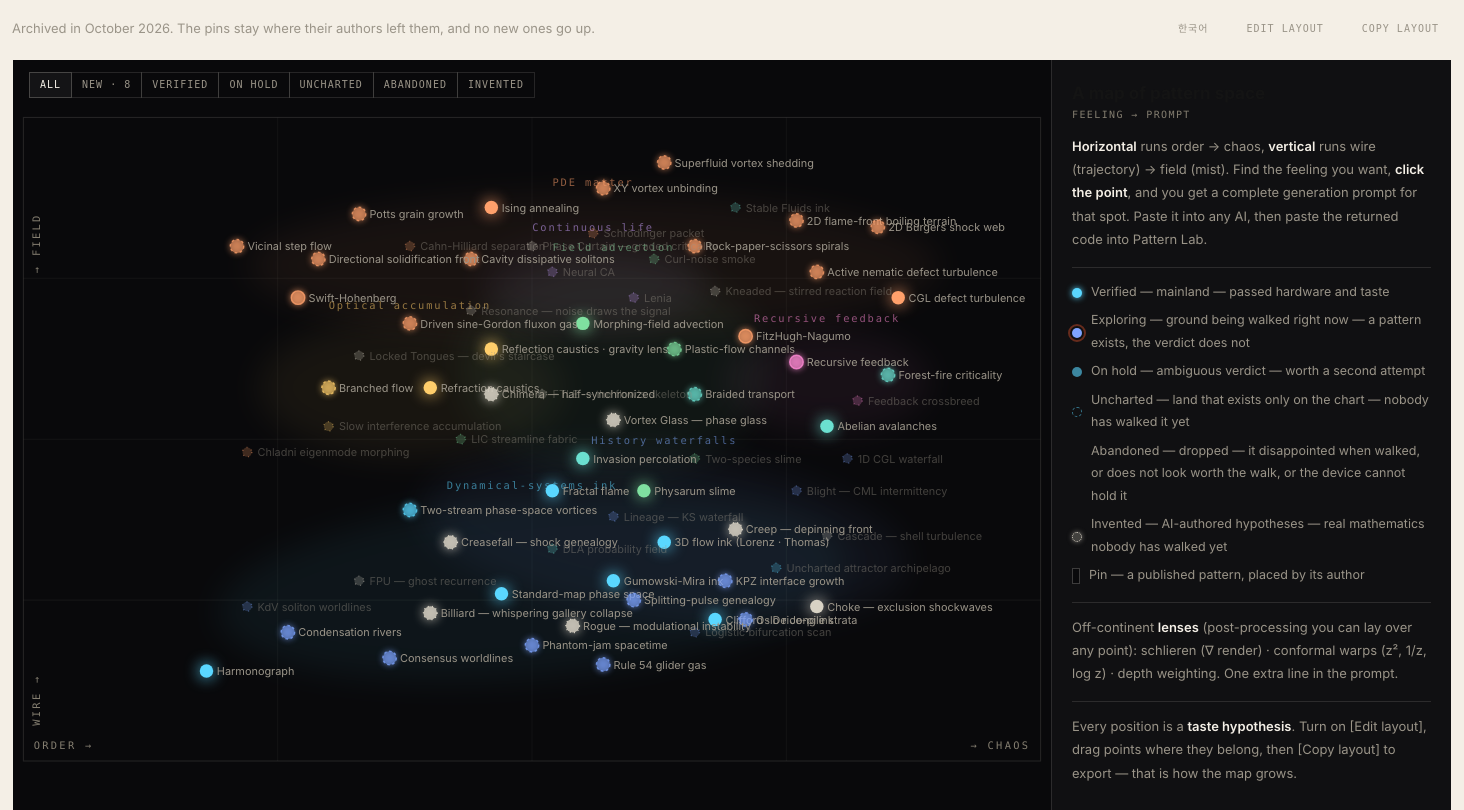
Test case: atlas reading language › opens with site data blocked, and the toggle still works for the visit
Click the button "한국어".
click(1193, 29)  # box [1165,14,1222,44]
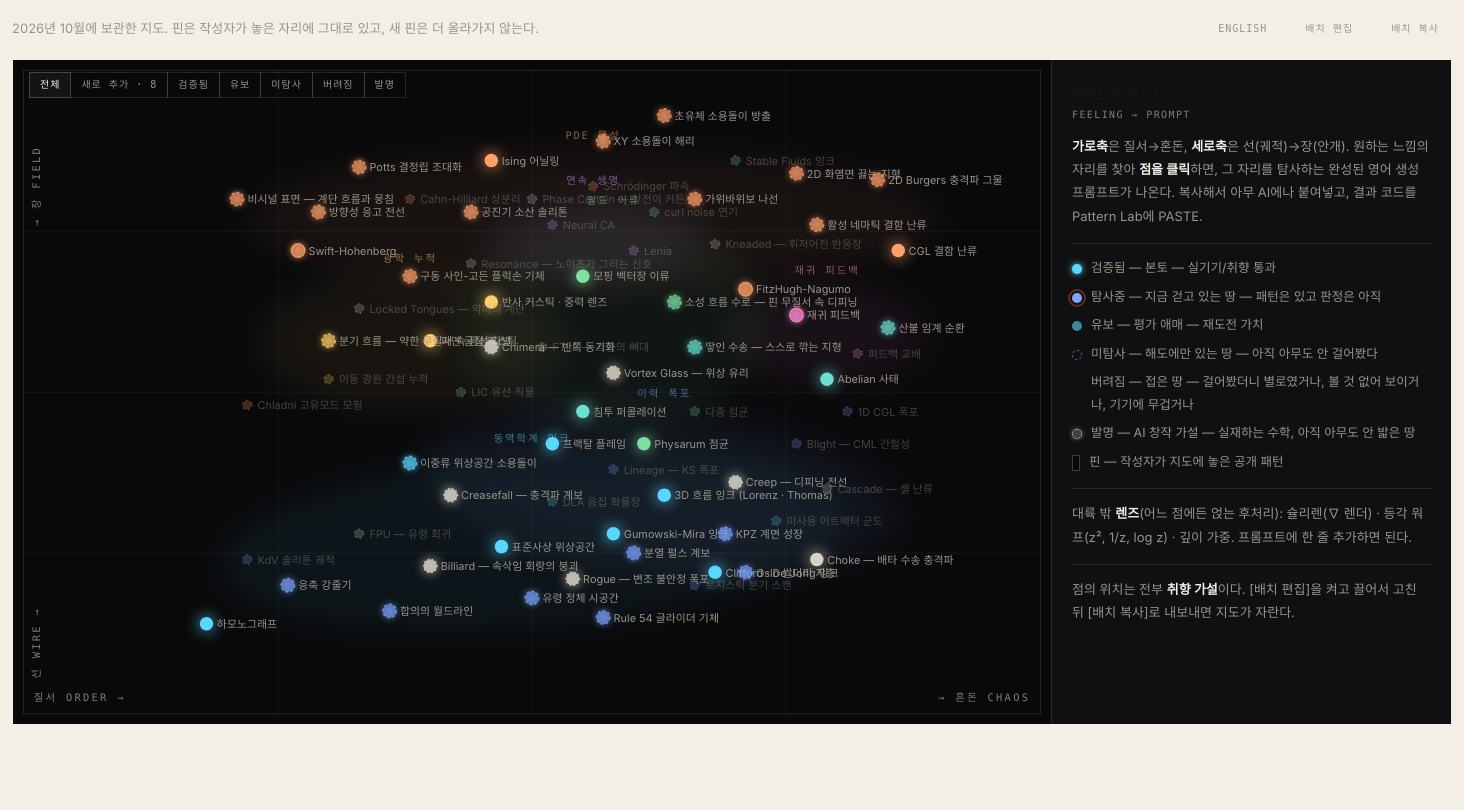
Result: the button "English" is shown at [1205,14,1280,44]
